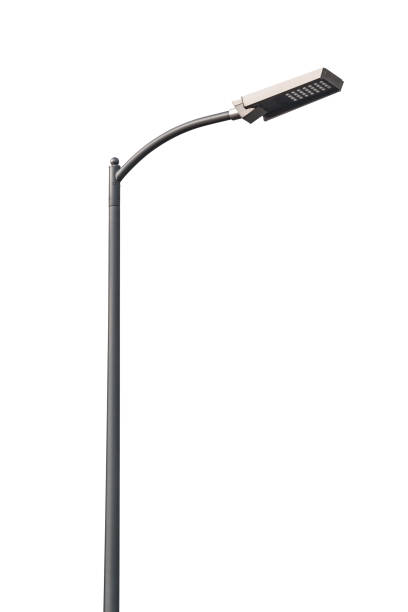light_pole: (100, 161, 125, 612)
